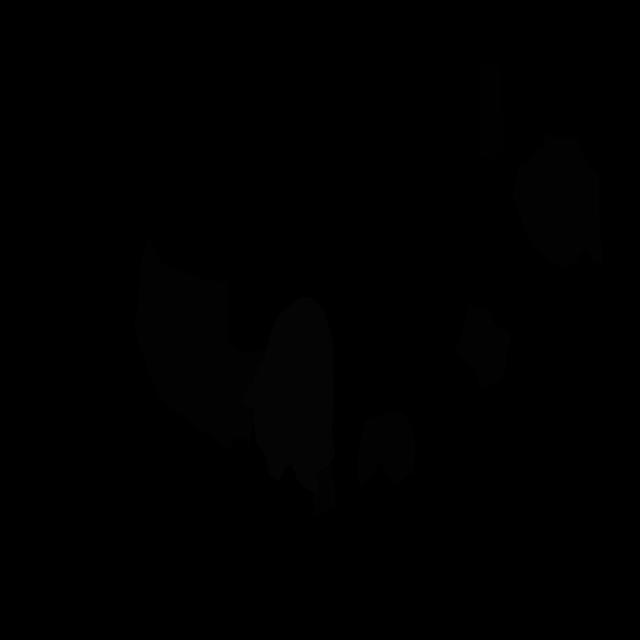cardboard: (134, 237, 266, 450), (513, 133, 603, 268), (454, 303, 512, 388), (356, 409, 415, 491), (312, 466, 336, 517)
rigid_plastic: (477, 61, 502, 160)
soft_plastic: (244, 297, 335, 493)
